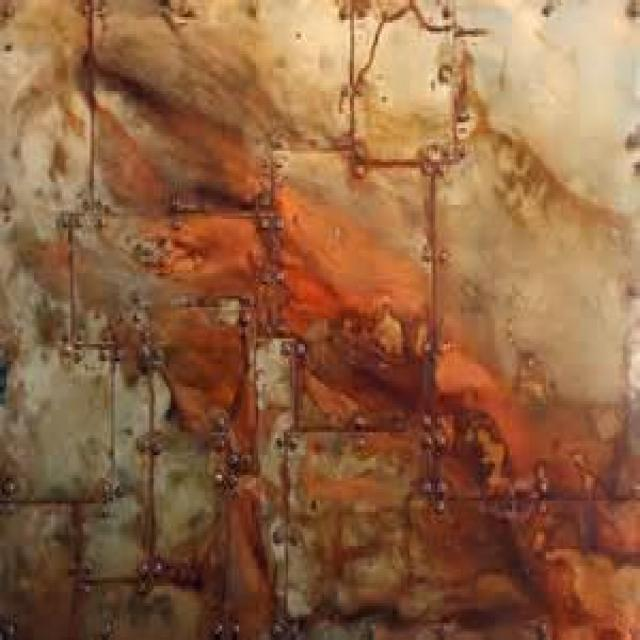Corrosion: (47, 68, 640, 639)
